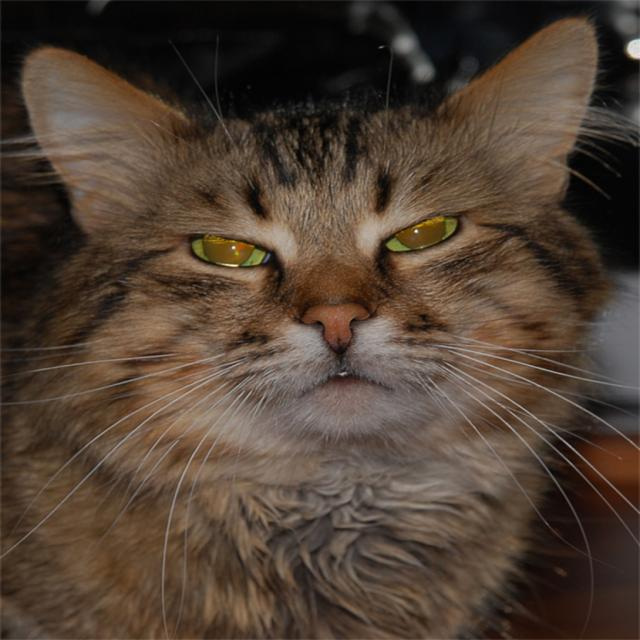Cat: (0, 10, 639, 639)
